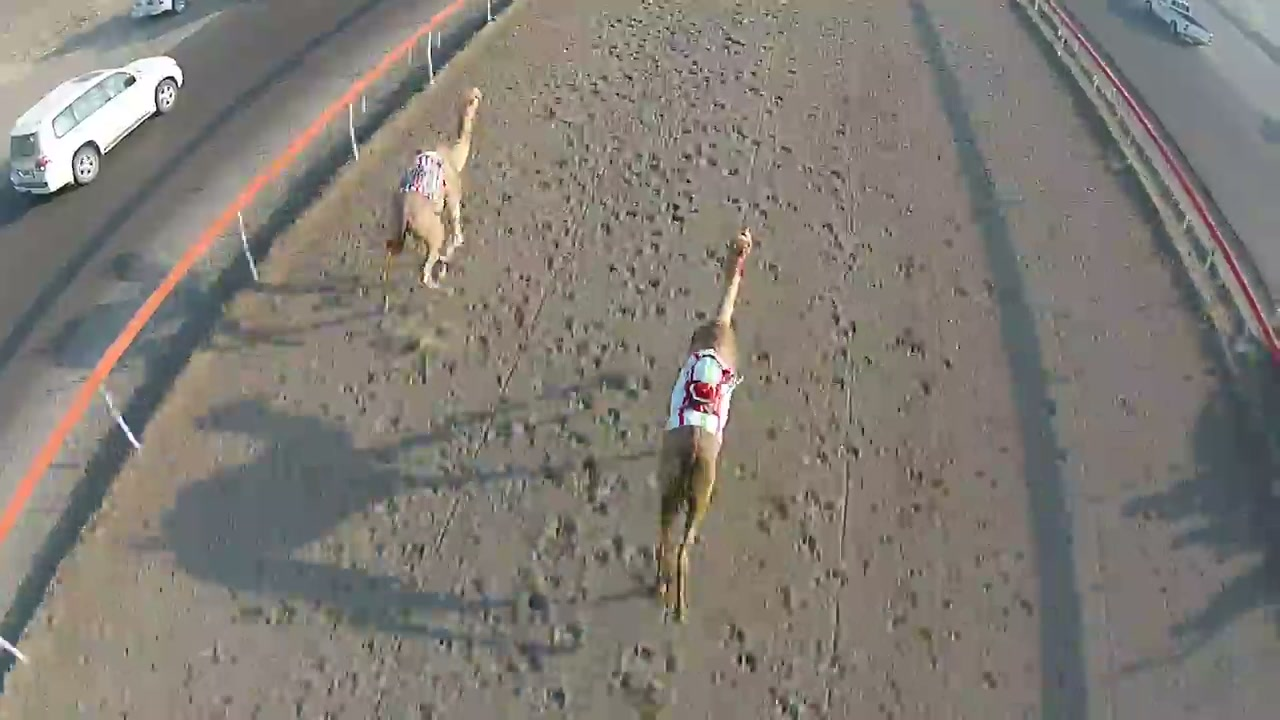animal_footprint: (502, 18, 682, 688), (377, 24, 644, 451), (722, 38, 848, 713)
